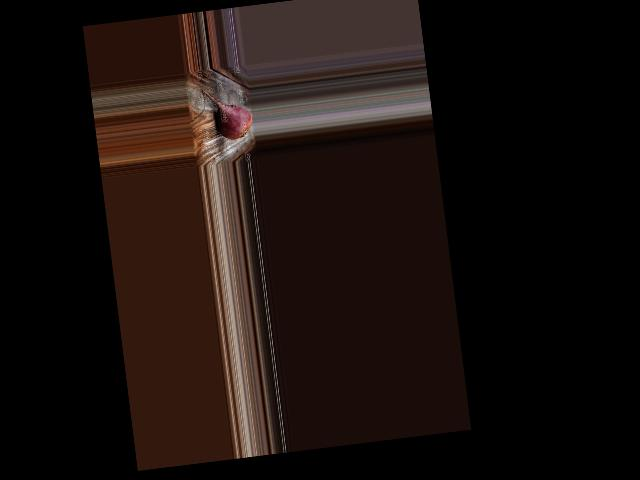beet: (202, 84, 254, 142)
